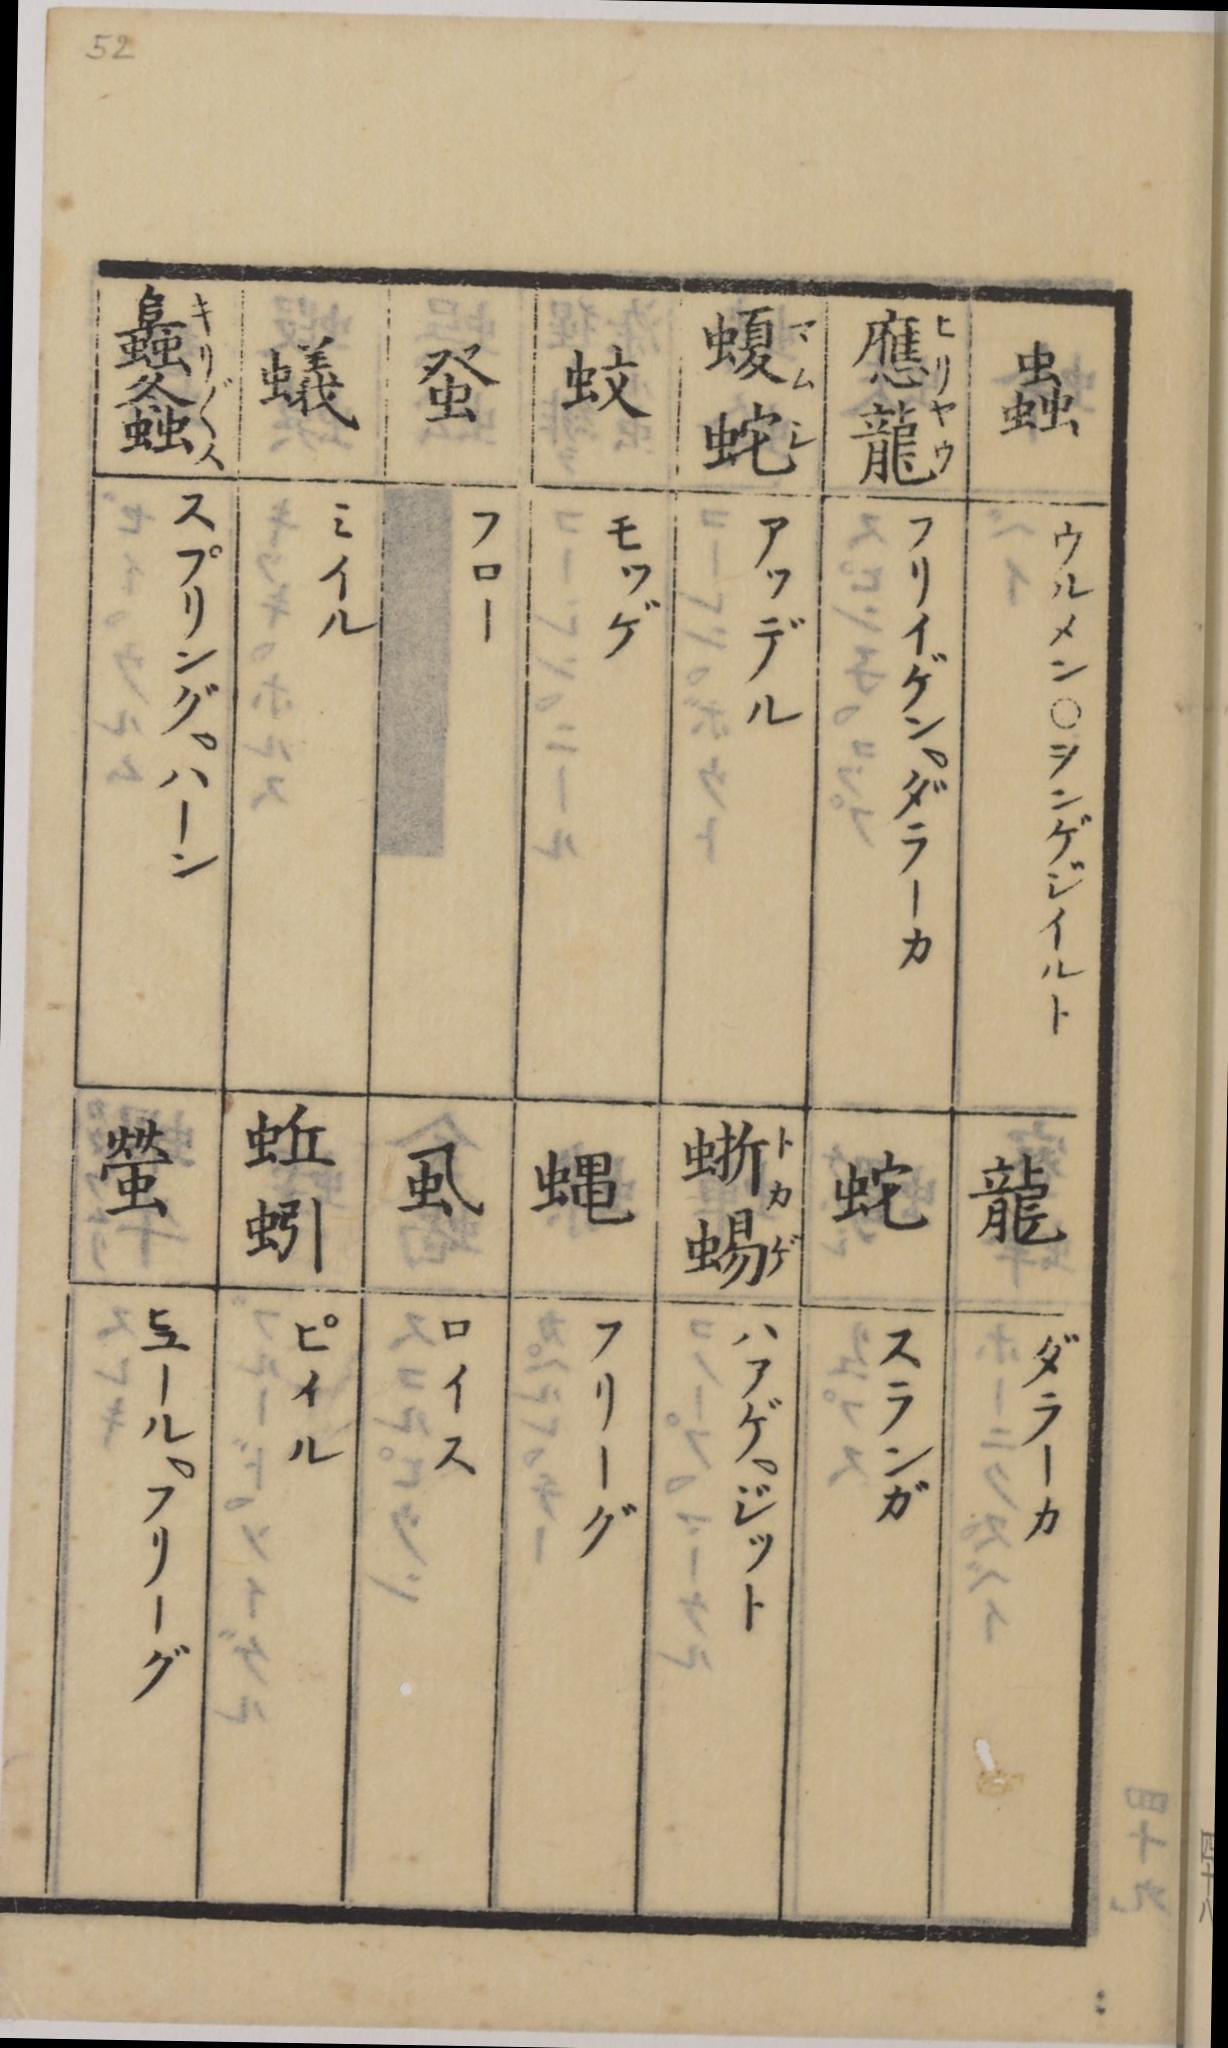MainZone-Character: (105, 374, 240, 475), (693, 298, 825, 399), (665, 1203, 808, 1294), (846, 399, 969, 496), (672, 1120, 801, 1209), (691, 401, 825, 485), (852, 304, 968, 396), (110, 295, 228, 377)
MainZone-Ruby: (192, 374, 237, 472), (187, 292, 227, 373), (787, 313, 819, 396), (767, 1126, 798, 1210), (928, 402, 962, 475), (930, 313, 959, 392), (766, 1224, 806, 1281), (782, 415, 820, 453)
